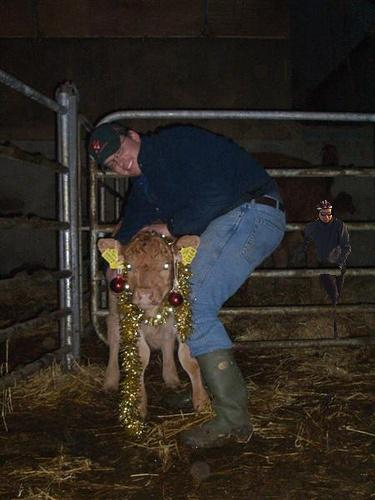tampered: (300, 201, 351, 339)
